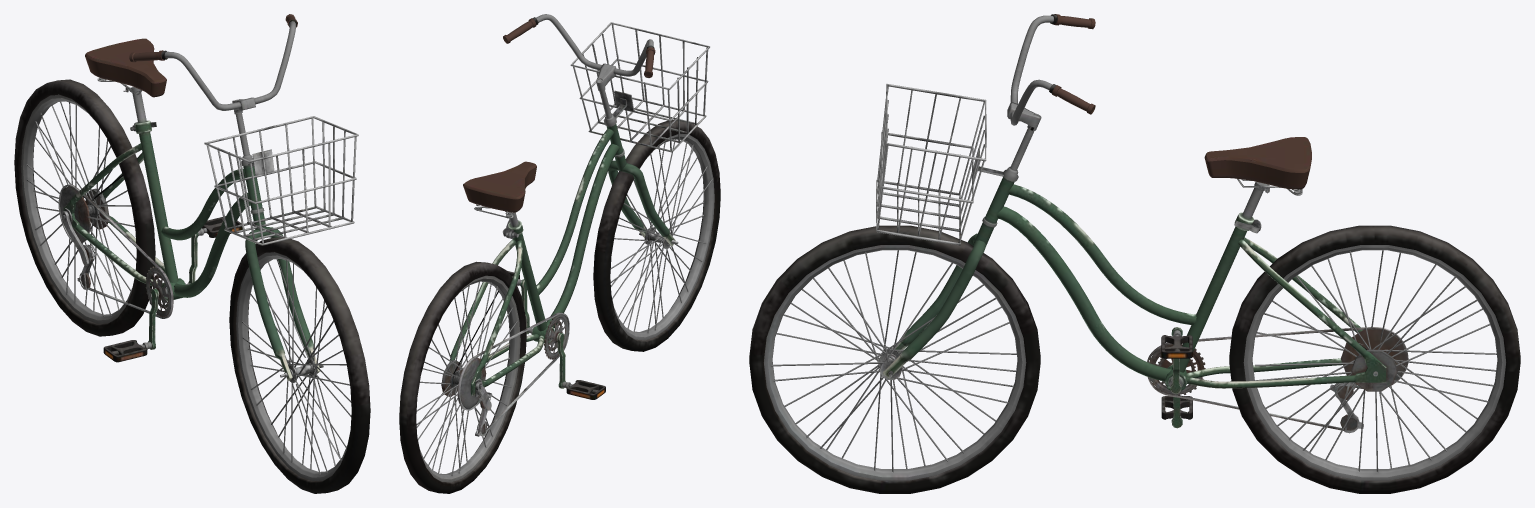
The model's file is velo.glb.
3 renders of one model, left to right at view 1: azimuth 30°, elevation 25°; view 2: azimuth 150°, elevation 25°; view 3: azimuth 270°, elevation 25°, orthographic. The views are drawn at different scales.
Visible parts, largest first — view 1: Cylinder.003_low_5, Cylinder.006_low_8, Cylinder.021_low_19, Cylinder.068_low_65, Plane.001_low_24, Cylinder.005_low_7, Cylinder.004_low_6, Cube.007_low_39, Cube.003_low_15, Plane_low_23, Cylinder_low_2, Cube.002_low_14 (+13 smaller); view 2: Cylinder.006_low_8, Cylinder.003_low_5, Cylinder.021_low_19, Cylinder.068_low_65, Cylinder.004_low_6, Cylinder.005_low_7, Cube.002_low_14, Cube.007_low_39, Plane.001_low_24, BezierCurve.001_low_1, Plane_low_23, BezierCurve_low_0 (+12 smaller); view 3: Cylinder.006_low_8, Cylinder.003_low_5, Cylinder.021_low_19, Cylinder.004_low_6, Cylinder.005_low_7, Cylinder.068_low_65, Cube.002_low_14, Cube.007_low_39, BezierCurve.001_low_1, Cube.003_low_15, Plane.001_low_24, BezierCurve_low_0 (+8 smaller).
Boxes of the visible parts, x1,y1,x2,y2 form: Cylinder.003_low_5: (229,237,370,493); Cylinder.006_low_8: (14,79,155,336); Cylinder.021_low_19: (241,252,351,474); Cylinder.068_low_65: (26,94,136,317); Plane.001_low_24: (207,117,356,243); Cylinder.005_low_7: (21,94,134,323); Cylinder.004_low_6: (236,252,350,481); Cube.007_low_39: (85,38,166,97); Cube.003_low_15: (245,227,320,380); Plane_low_23: (204,116,358,245); Cylinder_low_2: (131,87,178,283); Cube.002_low_14: (63,143,165,285); Cylinder.006_low_8: (399,261,526,493); Cylinder.003_low_5: (593,120,720,351); Cylinder.021_low_19: (610,139,712,333); Cylinder.068_low_65: (416,282,517,475); Cylinder.004_low_6: (611,133,714,340); Cylinder.005_low_7: (417,275,520,482); Cube.002_low_14: (449,238,544,395); Cube.007_low_39: (463,161,536,212); Plane.001_low_24: (573,24,708,150); BezierCurve.001_low_1: (546,144,619,327); Plane_low_23: (570,22,709,152); BezierCurve_low_0: (536,129,614,294); Cylinder.006_low_8: (1229,225,1520,493); Cylinder.003_low_5: (749,225,1040,493); Cylinder.021_low_19: (771,250,1016,472); Cylinder.004_low_6: (764,245,1026,480); Cylinder.005_low_7: (1243,245,1505,480); Cylinder.068_low_65: (1255,250,1496,472); Cube.002_low_14: (1186,237,1386,388); Cube.007_low_39: (1204,137,1311,189); BezierCurve.001_low_1: (997,206,1171,381); Cube.003_low_15: (882,233,986,378); Plane.001_low_24: (877,85,984,242); BezierCurve_low_0: (1008,184,1196,325).
Size of the model in its own units: 1.75 by 3.99 by 6.3.
Materials: 1 (1 with a texture image).
